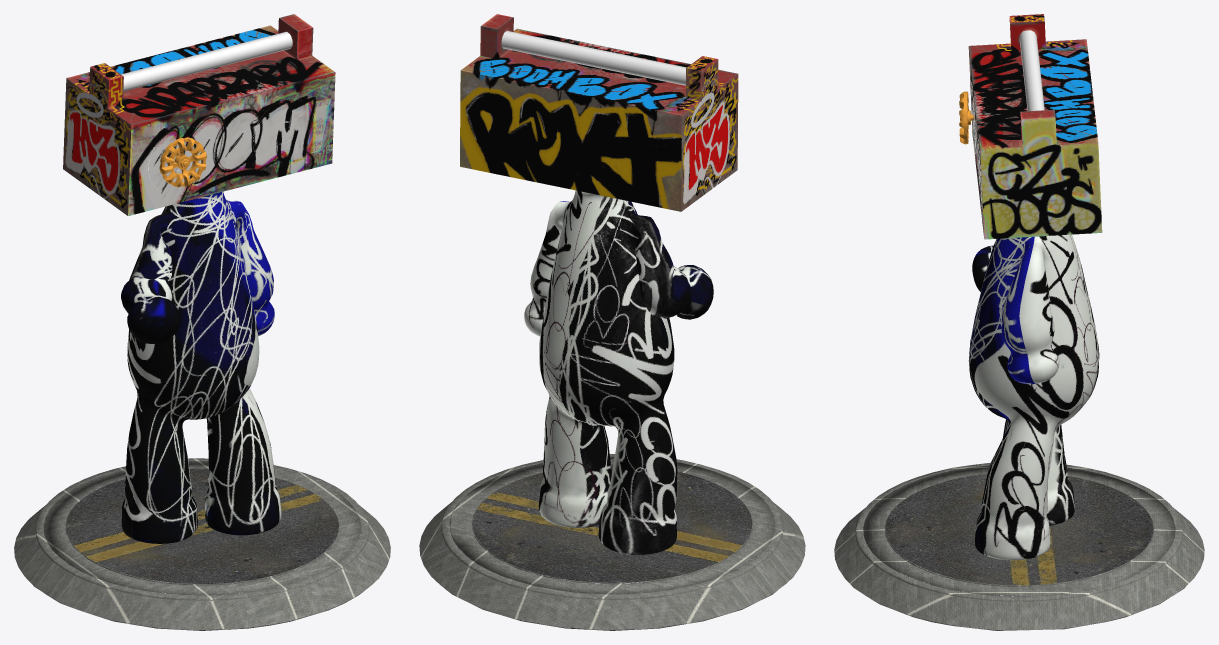
3 views of the same model, side by side, from view 1: azimuth 30°, elevation 25°; view 2: azimuth 150°, elevation 25°; view 3: azimuth 270°, elevation 25° (orthographic). The views are drawn at different scales.
Visible parts, largest first — view 1: BBody; view 2: BBody; view 3: BBody.
Boxes of the visible parts, <box> form: BBody: <box>14,14,390,630</box>; BBody: <box>419,14,805,630</box>; BBody: <box>834,14,1204,630</box>.
Bounding box in the file's own units: 1.45 × 2.12 × 1.45.
Materials: 5 (5 with a texture image).
